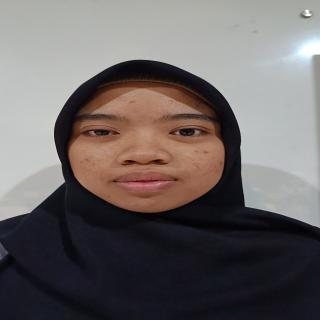Netral: (68, 78, 232, 218)
